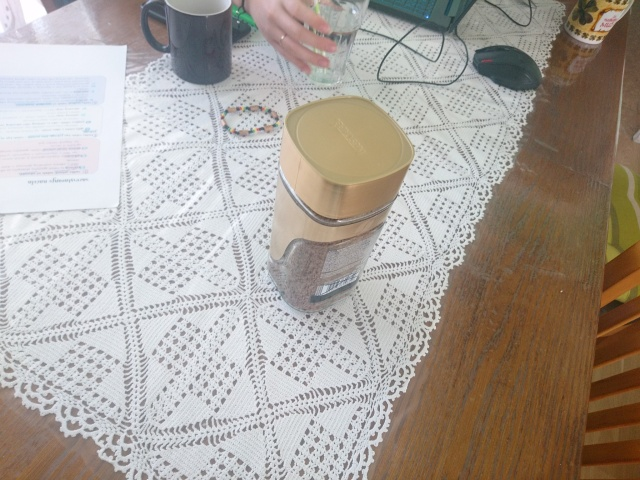Nescafe Gold 225g: (262, 93, 417, 316)
